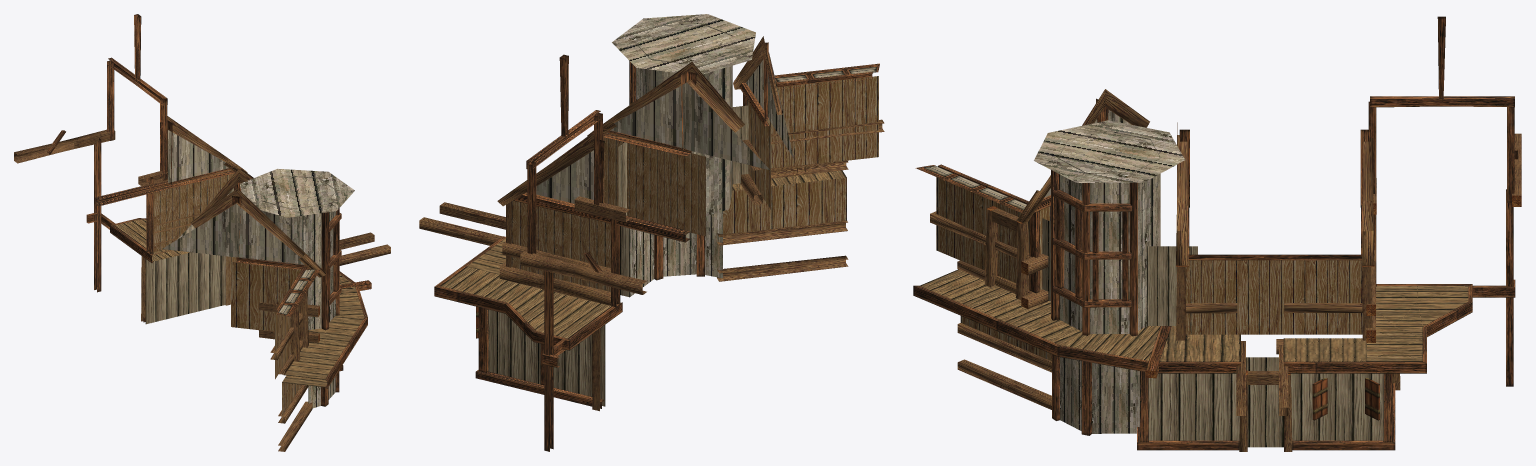
File: LAKETOWN_EXTERIOR_PS_LT_UPPERCOTTAGE76__GX.fbx
3 views of the same model, side by side, from view 1: azimuth 30°, elevation 25°; view 2: azimuth 150°, elevation 25°; view 3: azimuth 270°, elevation 25° (orthographic). The views are drawn at different scales.
Parts seen in each view (by area): view 1: LAKETOWN_EXTERIOR_PS_LT_UPPERCOTTAGE76__GX; view 2: LAKETOWN_EXTERIOR_PS_LT_UPPERCOTTAGE76__GX; view 3: LAKETOWN_EXTERIOR_PS_LT_UPPERCOTTAGE76__GX.
Boxes of the visible parts, bbox=[...] form: LAKETOWN_EXTERIOR_PS_LT_UPPERCOTTAGE76__GX: bbox=[14, 14, 390, 451]; LAKETOWN_EXTERIOR_PS_LT_UPPERCOTTAGE76__GX: bbox=[419, 14, 884, 451]; LAKETOWN_EXTERIOR_PS_LT_UPPERCOTTAGE76__GX: bbox=[913, 16, 1521, 451].
Bounding box in the file's own units: 126374 × 131555 × 191052.
11 materials, 11 textured.
